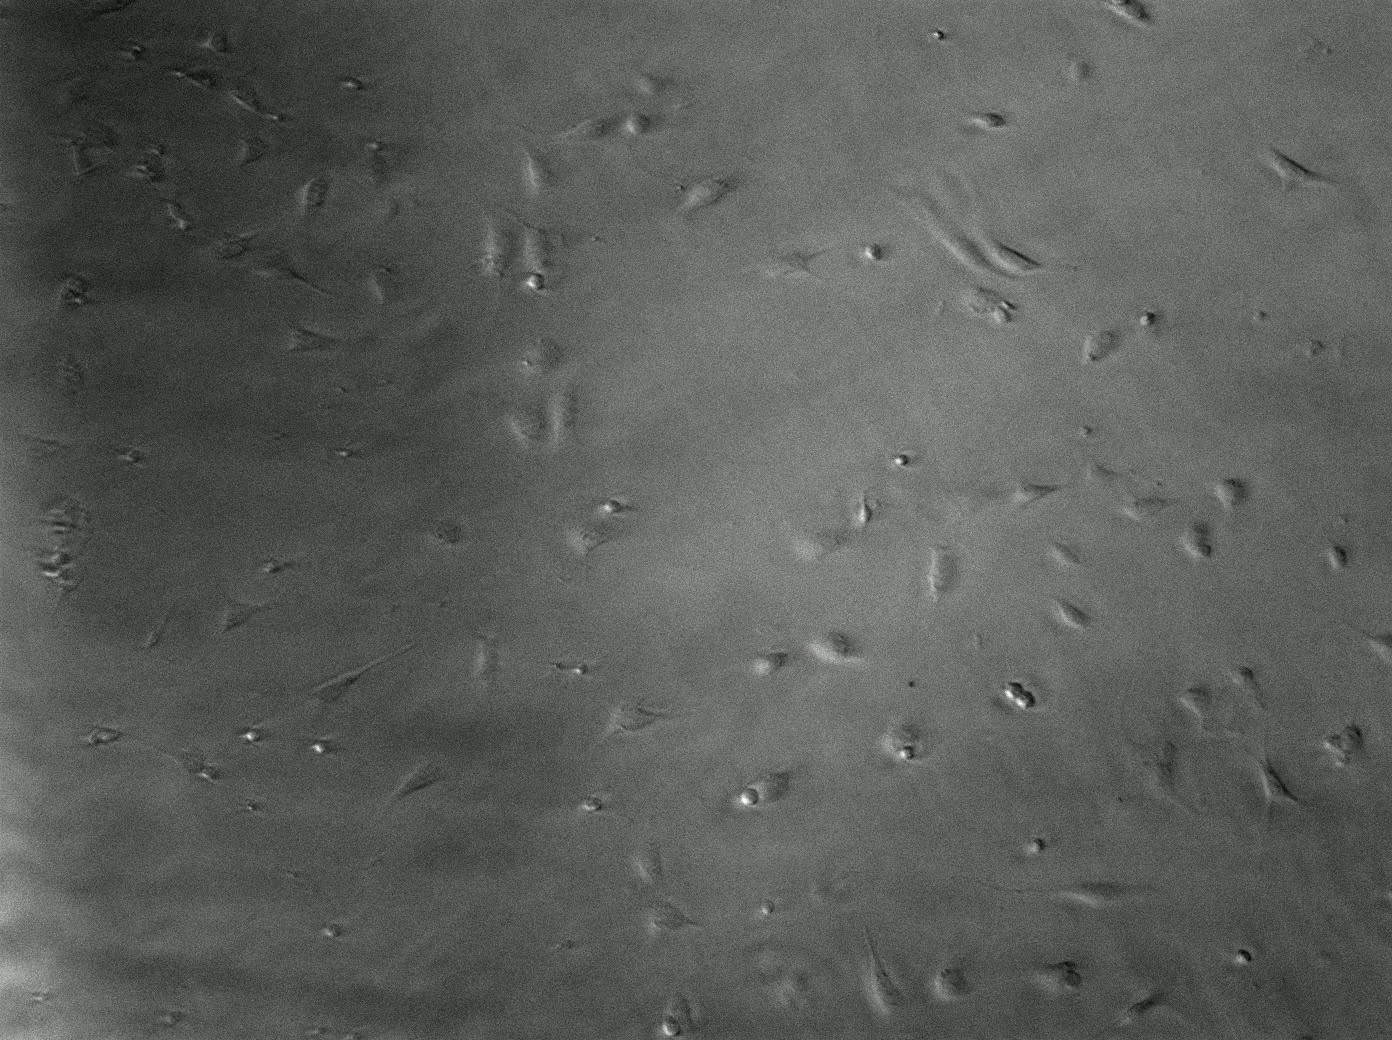cell: (870, 175, 1036, 284), (1234, 717, 1308, 840), (304, 637, 423, 706), (1100, 741, 1200, 820), (1301, 598, 1392, 662), (502, 204, 567, 293), (595, 695, 695, 748), (732, 241, 846, 287), (506, 106, 633, 146), (1262, 141, 1342, 202), (976, 881, 1129, 911), (209, 582, 284, 641), (858, 917, 900, 1015), (672, 168, 751, 218), (137, 734, 217, 782), (245, 255, 335, 297), (545, 374, 591, 457), (1104, 989, 1176, 1040), (382, 755, 451, 808), (474, 203, 522, 280), (982, 228, 1054, 274), (10, 430, 98, 468), (190, 228, 273, 268), (800, 626, 871, 671), (1317, 712, 1371, 769), (1026, 952, 1089, 1000), (514, 330, 565, 386), (46, 347, 109, 392), (49, 267, 102, 320), (738, 765, 801, 808), (278, 319, 345, 358), (1008, 474, 1071, 517), (791, 523, 853, 565), (140, 592, 182, 652), (563, 521, 616, 568), (223, 86, 286, 126), (644, 895, 705, 935), (1047, 589, 1101, 634), (964, 284, 1024, 324), (1106, 494, 1191, 522), (925, 542, 962, 607), (156, 61, 223, 95), (365, 262, 410, 308), (1096, 0, 1159, 32), (132, 151, 174, 199), (626, 839, 666, 888), (49, 567, 89, 617), (469, 628, 505, 683), (48, 67, 99, 105), (523, 141, 562, 192), (507, 405, 547, 453), (55, 132, 99, 175), (68, 122, 121, 157), (1082, 323, 1126, 365), (747, 641, 795, 679), (189, 24, 237, 62), (625, 64, 677, 99), (1166, 686, 1210, 728), (294, 173, 331, 221), (231, 132, 271, 175), (1205, 476, 1251, 513), (772, 968, 809, 1015), (1168, 523, 1211, 563), (354, 152, 397, 188), (931, 969, 968, 1006), (163, 196, 196, 237), (876, 730, 916, 764), (424, 519, 468, 548), (962, 108, 1012, 133), (75, 721, 129, 743), (1050, 542, 1086, 572), (621, 109, 658, 135), (665, 992, 695, 1024), (588, 497, 634, 517), (1328, 544, 1353, 572), (660, 1018, 683, 1038), (1014, 692, 1037, 709), (1005, 681, 1025, 700)
debris: (297, 734, 342, 757), (109, 445, 149, 468), (232, 723, 270, 746), (1135, 306, 1163, 332), (314, 922, 349, 941), (255, 558, 291, 576), (25, 989, 60, 1006), (152, 1009, 187, 1027), (334, 75, 367, 94), (523, 271, 548, 295), (989, 306, 1016, 326), (858, 492, 872, 529), (578, 795, 604, 815), (1230, 947, 1253, 969), (1060, 971, 1084, 992), (548, 937, 578, 954), (863, 243, 885, 264), (1023, 836, 1048, 854), (192, 767, 221, 783), (928, 27, 952, 46), (333, 446, 362, 461), (368, 132, 388, 154), (740, 788, 759, 807), (303, 1026, 334, 1038), (1189, 542, 1208, 560), (760, 896, 778, 917), (238, 800, 263, 814), (87, 736, 115, 747), (999, 297, 1019, 311), (334, 1030, 364, 1040), (899, 745, 916, 761), (892, 453, 910, 468), (264, 114, 288, 125), (570, 664, 590, 676), (550, 660, 565, 671)
